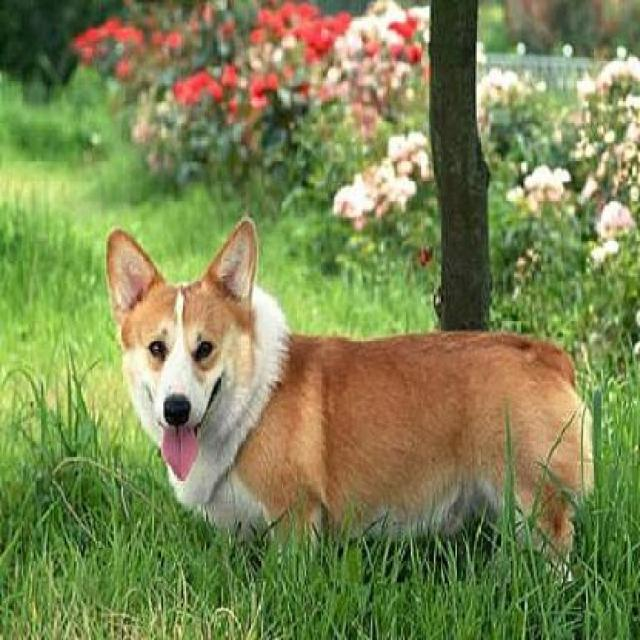Dog: (106, 218, 597, 591)
